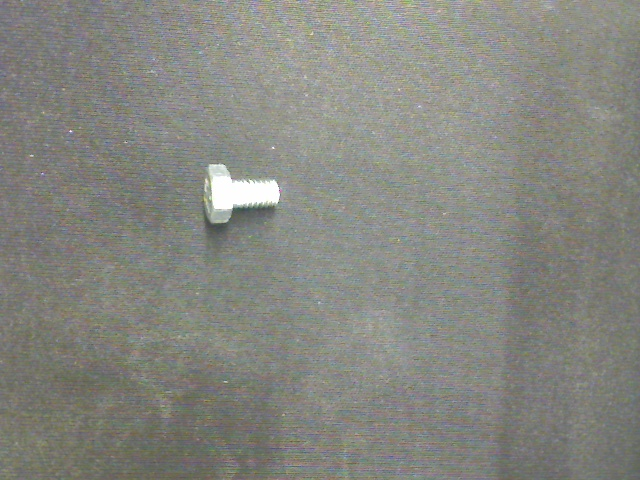screw: (204, 163, 280, 223)
